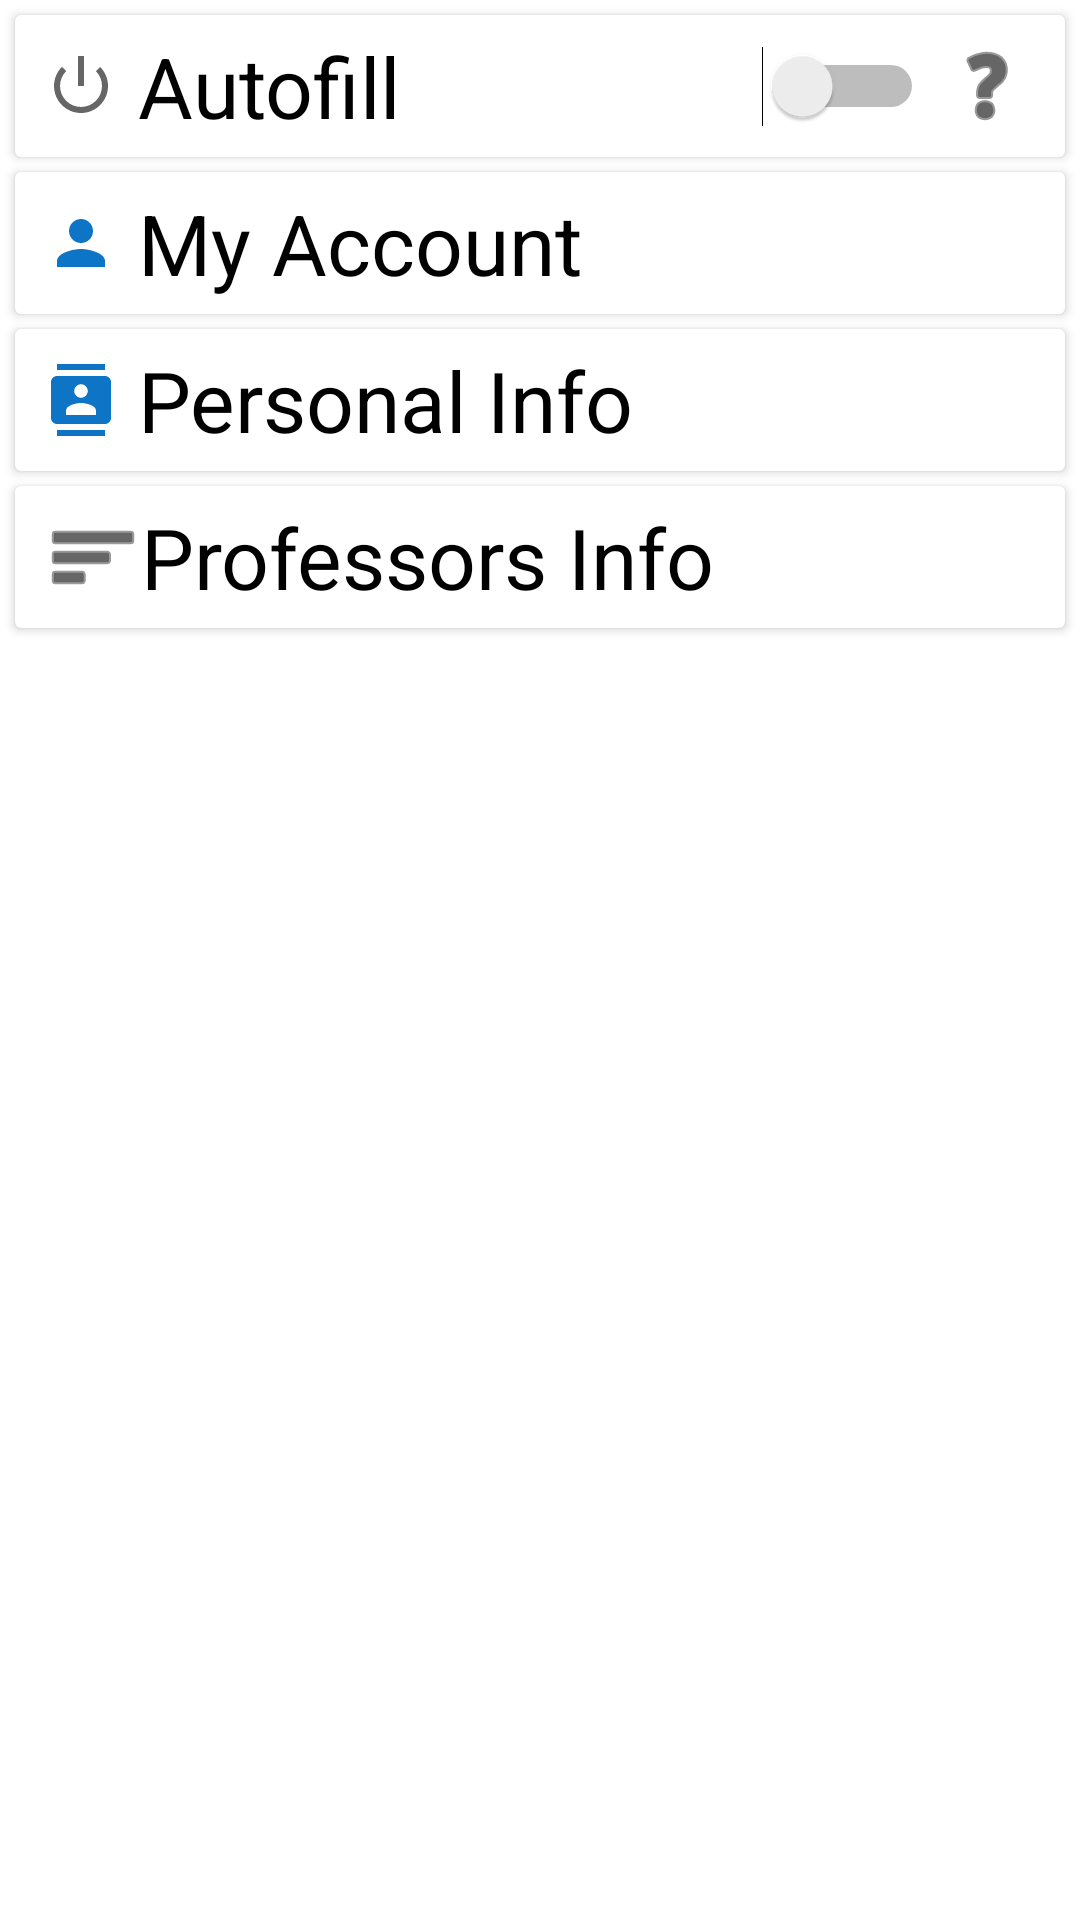

Locate icon controls on the screen. Image size 1080px×1920px, boxes as (x1, y1, x2, y2).
help: (966, 52, 1008, 120)
